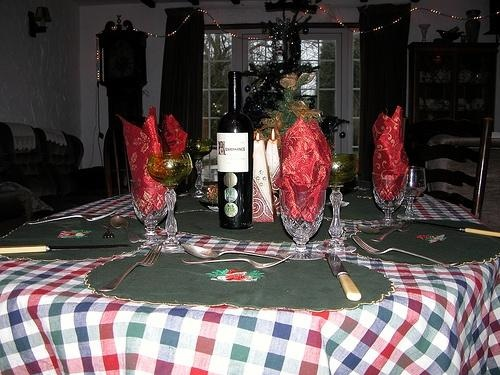bottle: (217, 71, 255, 230)
chair: (408, 117, 496, 221)
diningtable: (1, 175, 498, 375)
sofa: (1, 123, 111, 238)
